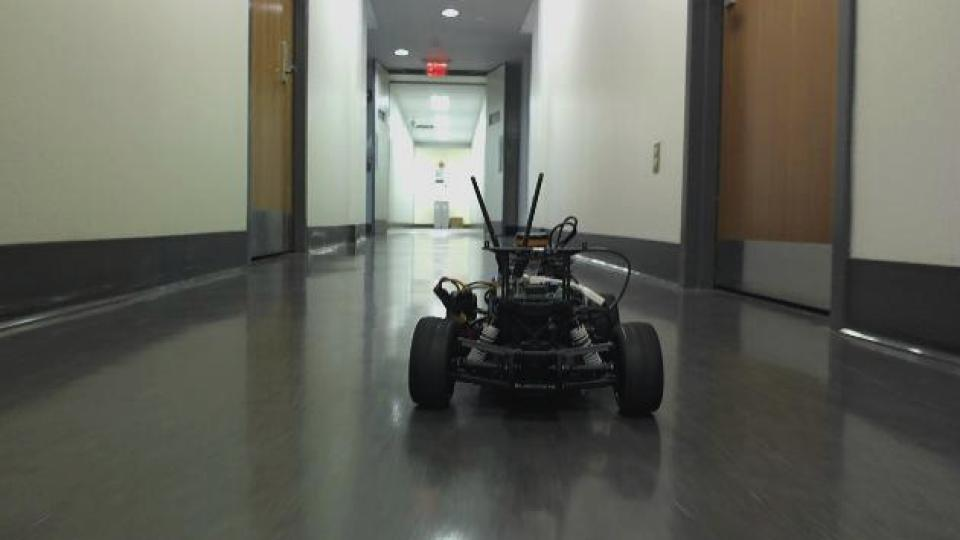car: (404, 171, 666, 419)
